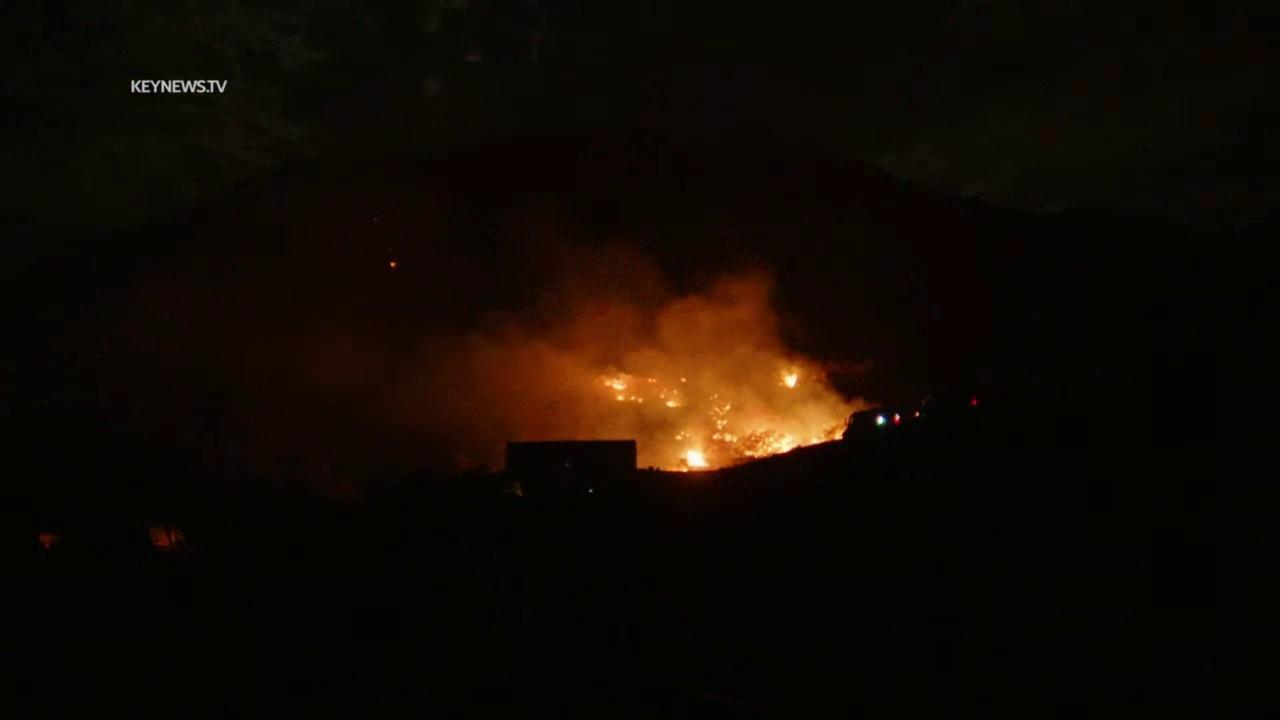fire: (745, 432, 798, 460), (708, 401, 738, 443), (678, 446, 712, 474), (777, 368, 800, 390), (603, 377, 628, 391), (806, 434, 831, 447), (665, 399, 687, 409), (835, 426, 847, 441), (630, 395, 644, 404), (612, 394, 625, 403), (675, 431, 685, 441), (647, 377, 657, 383), (680, 376, 687, 384)
smoke: (299, 231, 889, 481)
